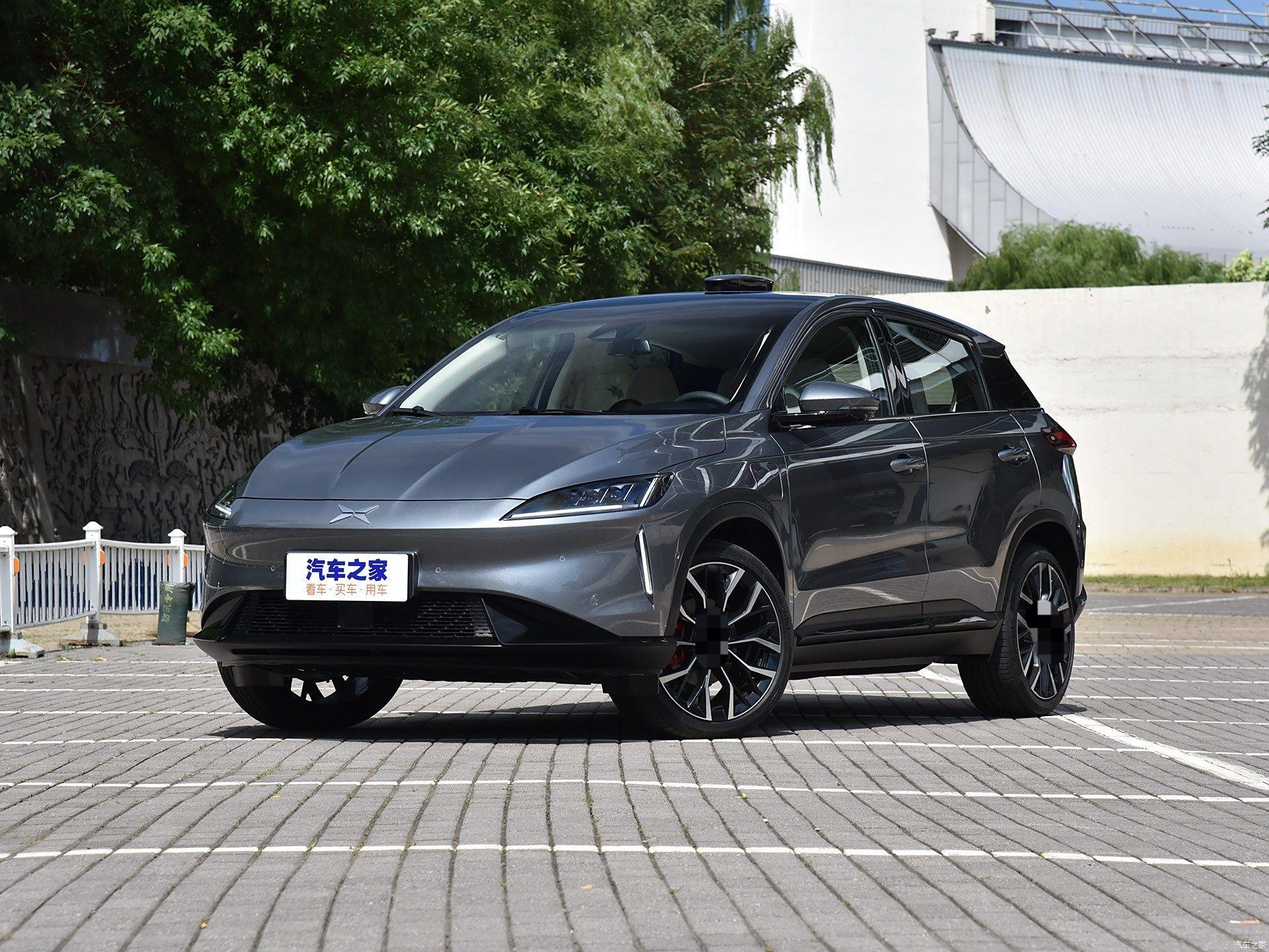XPeng Motors: (329, 504, 379, 524)
